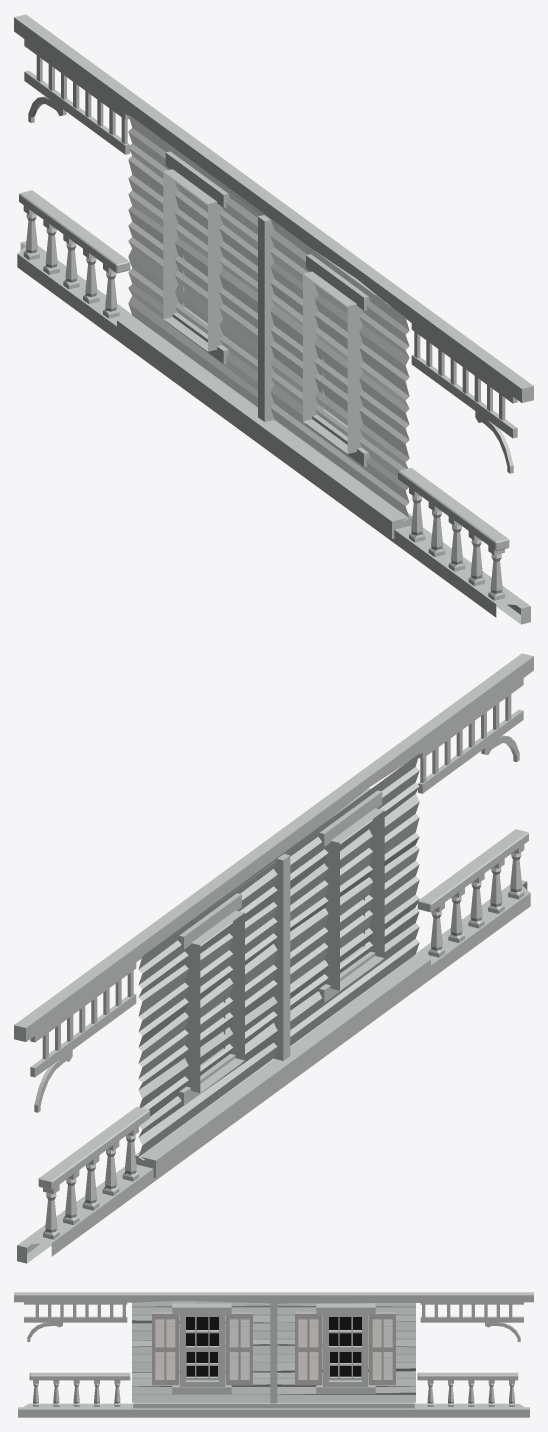
The model's file is SM_Bld_Mansion_End_Flat_01.glb.
The picture shows the model from 3 angles, top to bottom: view 1: azimuth 30°, elevation 25°; view 2: azimuth 150°, elevation 25°; view 3: azimuth 270°, elevation 25°; orthographic projection. The views are drawn at different scales.
Parts seen in each view (by area): view 1: SM_Bld_Mansion_End_Flat_01; view 2: SM_Bld_Mansion_End_Flat_01; view 3: SM_Bld_Mansion_End_Flat_01.
Boxes of the visible parts, x1,y1,x2,y2 form: SM_Bld_Mansion_End_Flat_01: (14, 14, 533, 624); SM_Bld_Mansion_End_Flat_01: (14, 653, 533, 1263); SM_Bld_Mansion_End_Flat_01: (14, 1292, 533, 1417).
Size of the model in its own units: 0.00408 by 0.0295 by 0.1135.
1 material, 1 textured.
